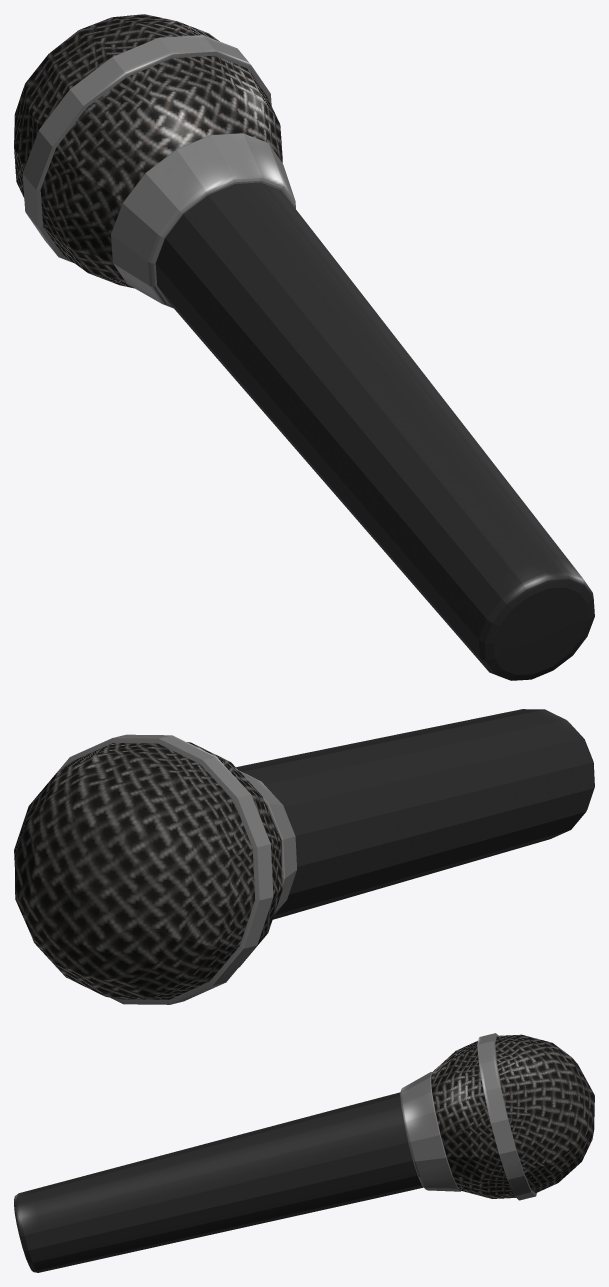
The model's file is Mic.obj.
3 renders of one model, top to bottom at view 1: azimuth 30°, elevation 25°; view 2: azimuth 150°, elevation 25°; view 3: azimuth 270°, elevation 25°, orthographic. The views are drawn at different scales.
Parts seen in each view (by area): view 1: MicStand_Mike; view 2: MicStand_Mike; view 3: MicStand_Mike.
Part boxes in pixels (x1,y1,x2,y2): MicStand_Mike: [14, 14, 594, 680]; MicStand_Mike: [14, 709, 594, 1004]; MicStand_Mike: [14, 1033, 594, 1272].
Bounding box in the file's own units: 2.1 × 3.14 × 7.23.
